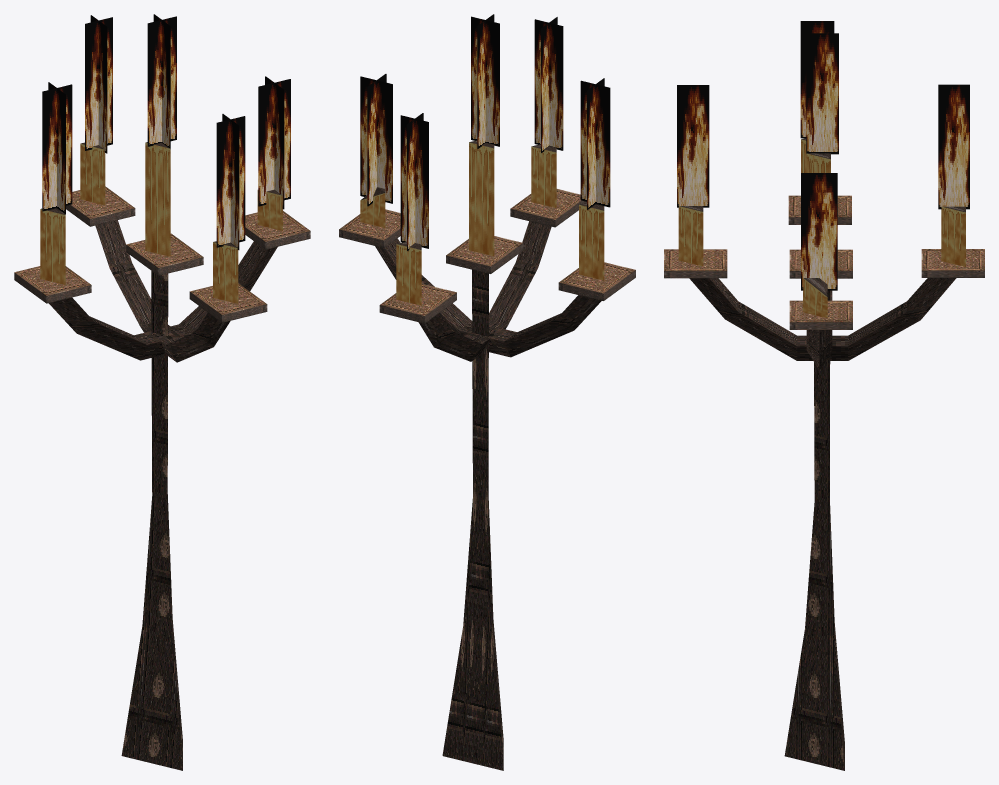
Rendered from CANDELABRA1_ACTORDEF.fbx.
3 views of the same model, side by side, from view 1: azimuth 30°, elevation 25°; view 2: azimuth 150°, elevation 25°; view 3: azimuth 270°, elevation 25° (orthographic). The views are drawn at different scales.
Parts seen in each view (by area): view 1: CANDELABRA1_ACTORDEF, CandleFire1, CandleFire5, CandleFire4, CandleFire3Middle, CandleFire2; view 2: CANDELABRA1_ACTORDEF, CandleFire1, CandleFire4, CandleFire5, CandleFire2, CandleFire3Middle; view 3: CANDELABRA1_ACTORDEF, CandleFire1, CandleFire5, CandleFire3Middle, CandleFire2, CandleFire4.
Part boxes in pixels (x1,y1,x2,y2): CANDELABRA1_ACTORDEF: (14,142,310,770); CandleFire1: (258,76,290,209); CandleFire5: (216,114,245,249); CandleFire4: (42,82,72,214); CandleFire3Middle: (147,14,176,149); CandleFire2: (85,15,112,153); CANDELABRA1_ACTORDEF: (339,140,635,770); CandleFire1: (360,74,392,206); CandleFire4: (580,78,610,209); CandleFire5: (534,17,563,152); CandleFire2: (400,113,428,250); CandleFire3Middle: (471,14,499,148); CANDELABRA1_ACTORDEF: (664,138,984,770); CandleFire1: (801,173,837,290); CandleFire5: (677,85,709,207); CandleFire3Middle: (806,33,838,154); CandleFire2: (938,84,969,209); CandleFire4: (800,21,834,138).
Size of the model in its own units: 8.43 by 22.43 by 9.03.
